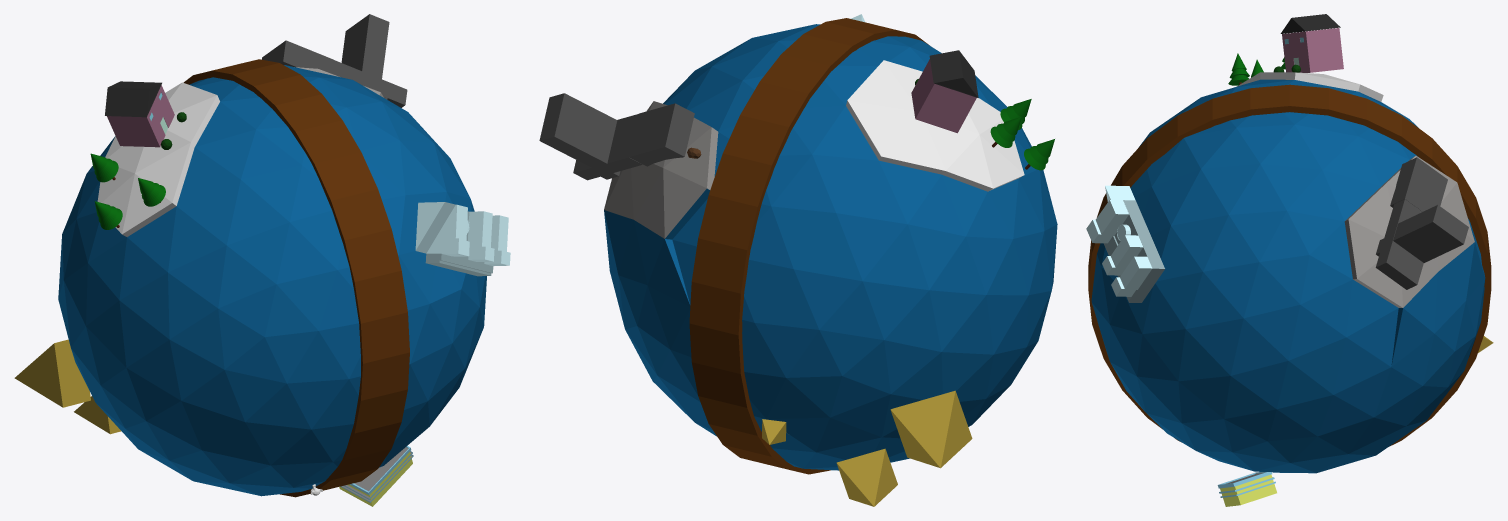
The model's file is Earth_WIP_2.gltf.
3 renders of one model, left to right at view 1: azimuth 30°, elevation 25°; view 2: azimuth 150°, elevation 25°; view 3: azimuth 270°, elevation 25°, orthographic. The views are drawn at different scales.
Parts seen in each view (by area): view 1: Earth, Road, Coimbra Uni, Luxembourg Uni, pyramid_1, House, Roof, Lisbon Uni, pyramid_2, Conifer_Tree_2.001, Conifer_Tree_1.001, Conifer_Tree_3.001; view 2: Earth, Road, Luxembourg Uni, pyramid_1, House, pyramid_2, Roof, Conifer_Tree_2.001, Conifer_Tree_1.001; view 3: Earth, Road, Luxembourg Uni, Coimbra Uni, House, Lisbon Uni, Roof.
Boxes of the visible parts, x1,y1,x2,y2 form: Earth: (58, 65, 486, 496); Road: (183, 59, 409, 497); Coimbra Uni: (415, 202, 510, 276); Luxembourg Uni: (262, 14, 407, 107); pyramid_1: (14, 339, 90, 407); House: (107, 85, 174, 147); Roof: (105, 81, 161, 117); Lisbon Uni: (339, 446, 413, 506); pyramid_2: (74, 396, 121, 434); Conifer_Tree_2.001: (90, 153, 118, 182); Conifer_Tree_1.001: (94, 201, 122, 229); Conifer_Tree_3.001: (138, 178, 165, 206); Earth: (604, 24, 1057, 470); Road: (689, 18, 929, 474); Luxembourg Uni: (539, 93, 694, 180); pyramid_1: (890, 390, 972, 468); House: (911, 59, 976, 133); pyramid_2: (836, 448, 897, 506); Roof: (929, 50, 978, 97); Conifer_Tree_2.001: (990, 116, 1021, 147); Conifer_Tree_1.001: (1024, 139, 1054, 170); Earth: (1091, 72, 1485, 473); Road: (1088, 84, 1491, 446); Luxembourg Uni: (1375, 157, 1468, 289); Coimbra Uni: (1086, 185, 1164, 302); House: (1282, 28, 1343, 72); Lisbon Uni: (1217, 472, 1276, 506); Roof: (1280, 14, 1340, 33).
Size of the model in its own units: 2.08 by 2.24 by 2.04.
